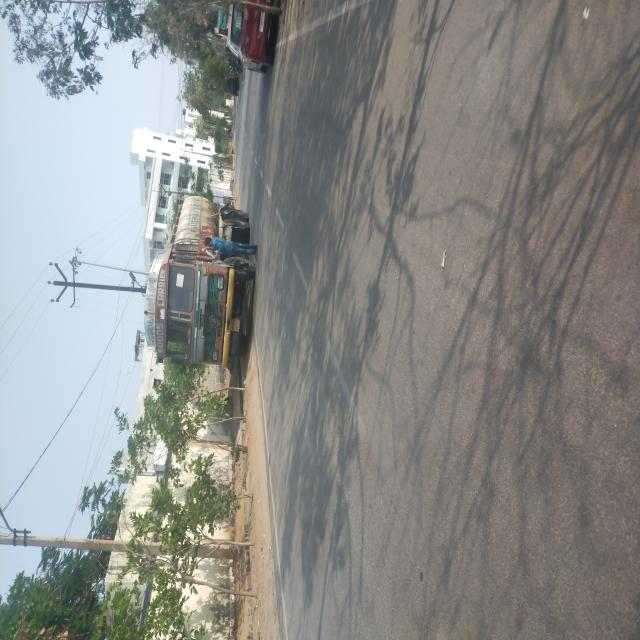Car: (426, 295, 478, 373)
Truck: (205, 189, 332, 346)
